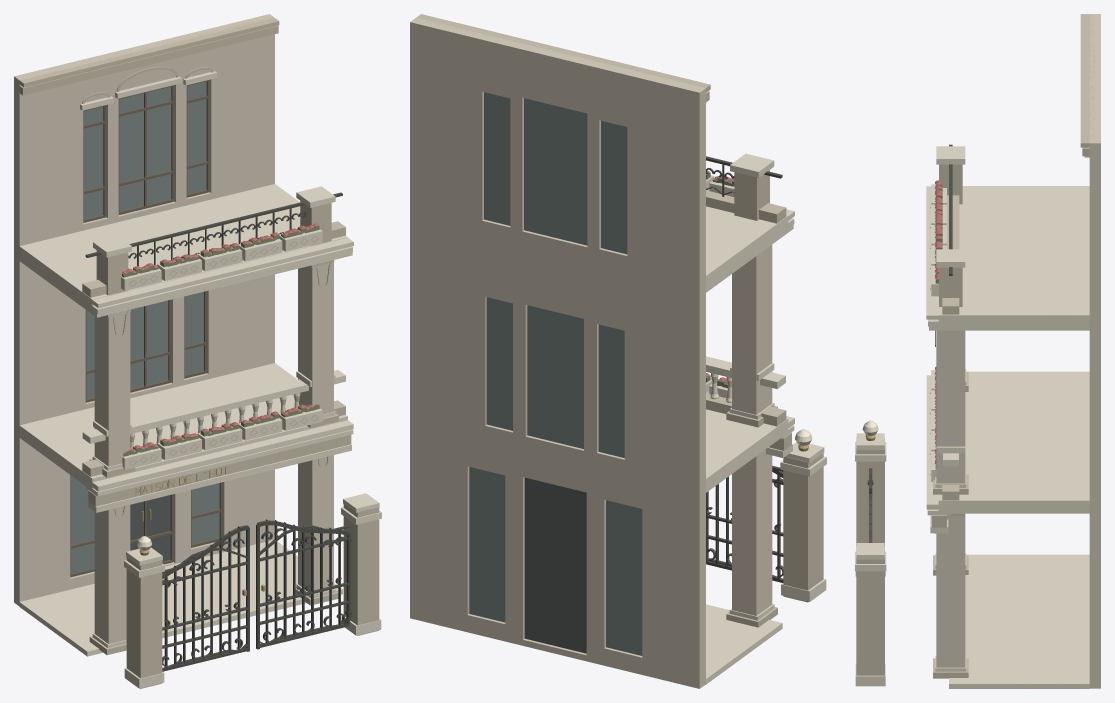
File: huangpu-sino-german-hospital-courtyard-loggia-raw.glb
The picture shows the model from 3 angles, left to right: view 1: azimuth 30°, elevation 25°; view 2: azimuth 150°, elevation 25°; view 3: azimuth 270°, elevation 25°; orthographic projection. The views are drawn at different scales.
Visible parts, largest first — view 1: 中德医院旧址庭院中央门廊与露台; view 2: 中德医院旧址庭院中央门廊与露台; view 3: 中德医院旧址庭院中央门廊与露台.
Boxes of the visible parts, box(x1,y1,x2,y2) form: 中德医院旧址庭院中央门廊与露台: box(14, 14, 381, 688); 中德医院旧址庭院中央门廊与露台: box(410, 14, 826, 688); 中德医院旧址庭院中央门廊与露台: box(855, 14, 1100, 688).
Size of the model in its own units: 6.48 by 12.8 by 5.21.
